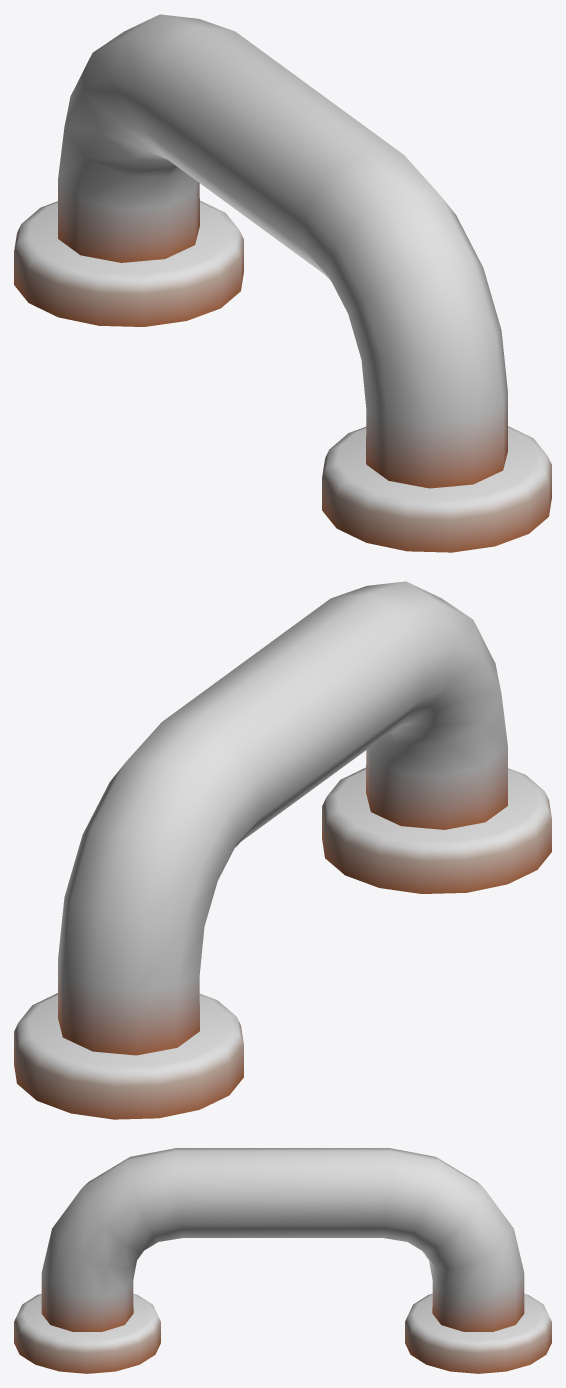
The model's file is NF_Prop_Pipe 02.fbx.
The picture shows the model from 3 angles, top to bottom: view 1: azimuth 30°, elevation 25°; view 2: azimuth 150°, elevation 25°; view 3: azimuth 270°, elevation 25°; orthographic projection. The views are drawn at different scales.
Parts seen in each view (by area): view 1: Pipe_02; view 2: Pipe_02; view 3: Pipe_02.
Part boxes in pixels (x1=…): Pipe_02: x1=14, y1=14, x2=551, y2=552; Pipe_02: x1=14, y1=581, x2=551, y2=1119; Pipe_02: x1=14, y1=1148, x2=551, y2=1373.
Bounding box in the file's own units: 0.8 × 1.15 × 2.93.
